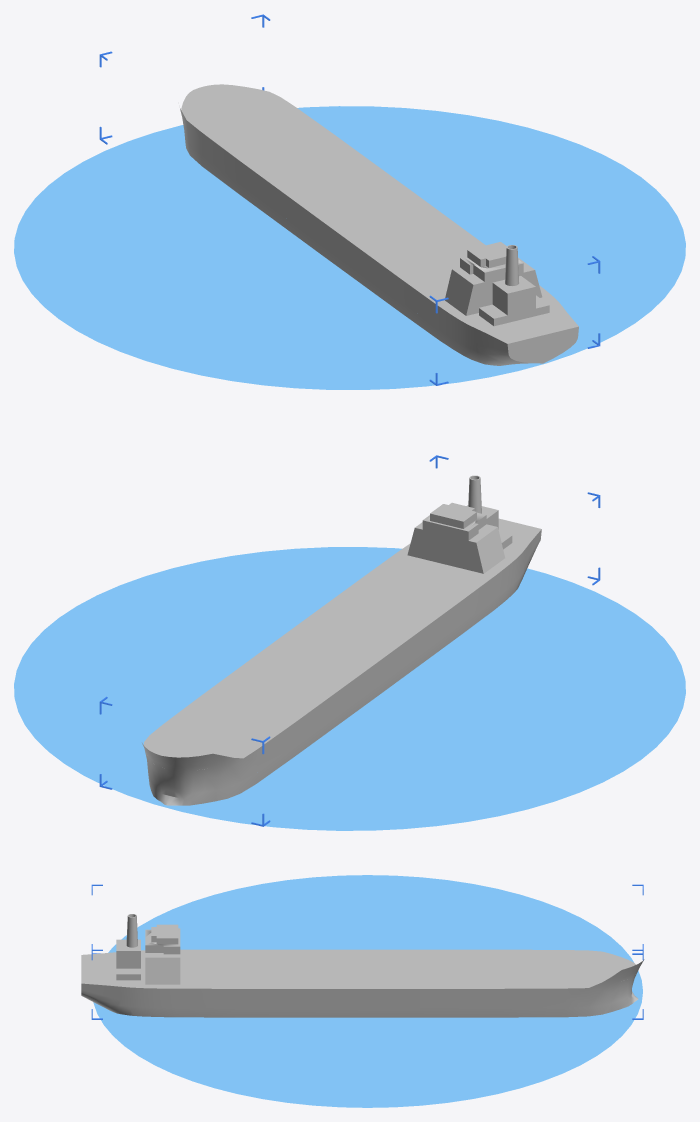
The model's file is Tanker.glb.
3 renders of one model, top to bottom at view 1: azimuth 30°, elevation 25°; view 2: azimuth 150°, elevation 25°; view 3: azimuth 270°, elevation 25°, orthographic. The views are drawn at different scales.
Visible parts, largest first — view 1: WaterPlate, AIS_Tanker-A002; view 2: WaterPlate, AIS_Tanker-A002, BoundingBox; view 3: WaterPlate, AIS_Tanker-A002.
Part boxes in pixels (left/top/right/bottom): WaterPlate: left=14, top=106, right=685, bottom=389; AIS_Tanker-A002: left=180, top=84, right=578, bottom=365; WaterPlate: left=14, top=547, right=685, bottom=830; AIS_Tanker-A002: left=142, top=475, right=541, bottom=805; BoundingBox: left=99, top=455, right=600, bottom=826; WaterPlate: left=93, top=875, right=642, bottom=1107; AIS_Tanker-A002: left=81, top=914, right=644, bottom=1017.
Bounding box in the file's own units: 250 × 41.97 × 305.
